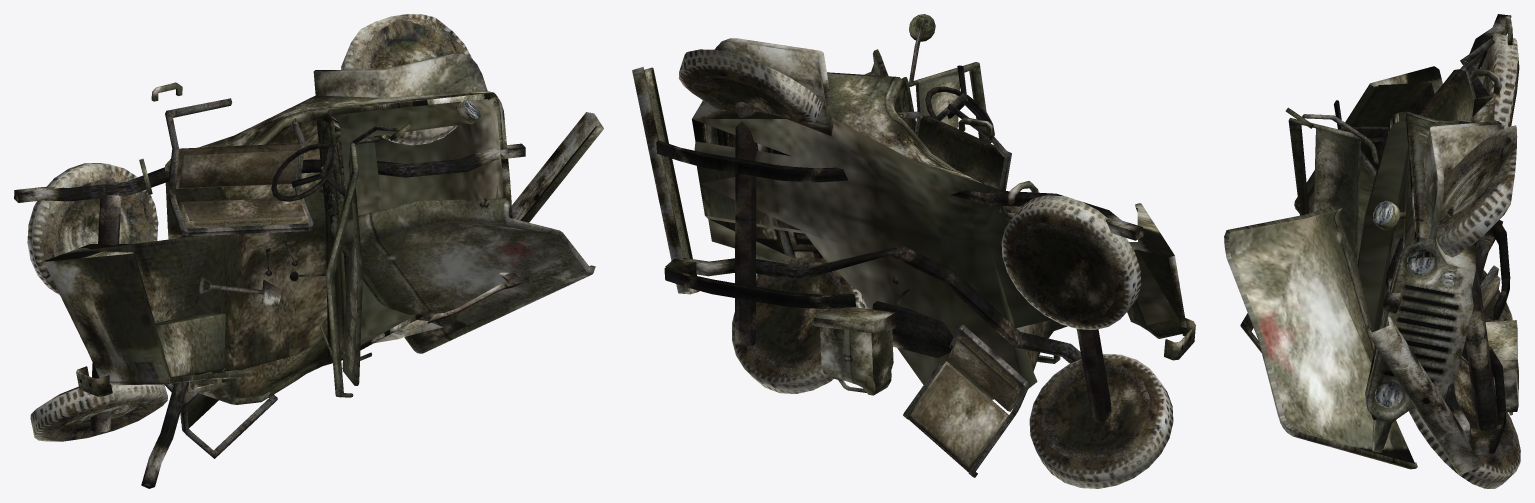
The model's file is vehicle_russia_jeep_can_dmg.glb.
3 views of the same model, side by side, from view 1: azimuth 30°, elevation 25°; view 2: azimuth 150°, elevation 25°; view 3: azimuth 270°, elevation 25° (orthographic). The views are drawn at different scales.
Size of the model in its own units: 148 by 99.44 by 62.58.
Materials: 1 (1 with a texture image).
